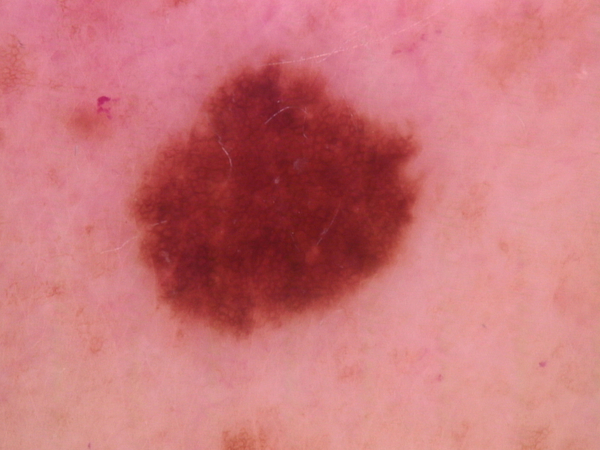Detected Lesion: (92, 42, 427, 353)
